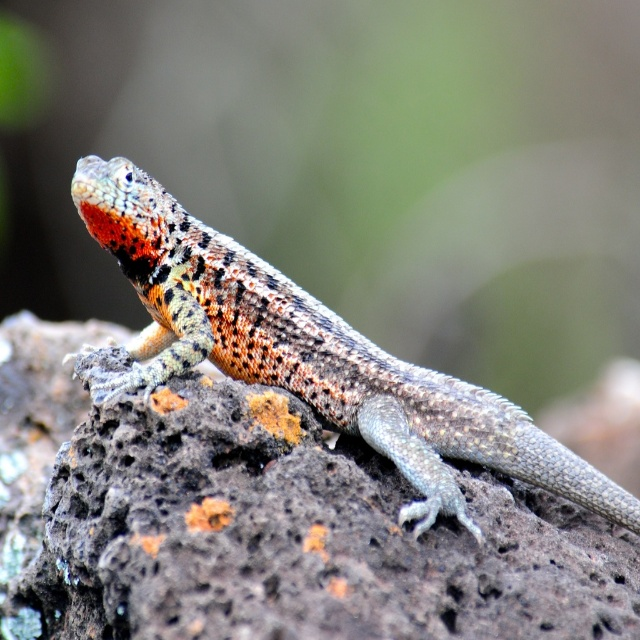Lizard: (72, 153, 639, 547)
